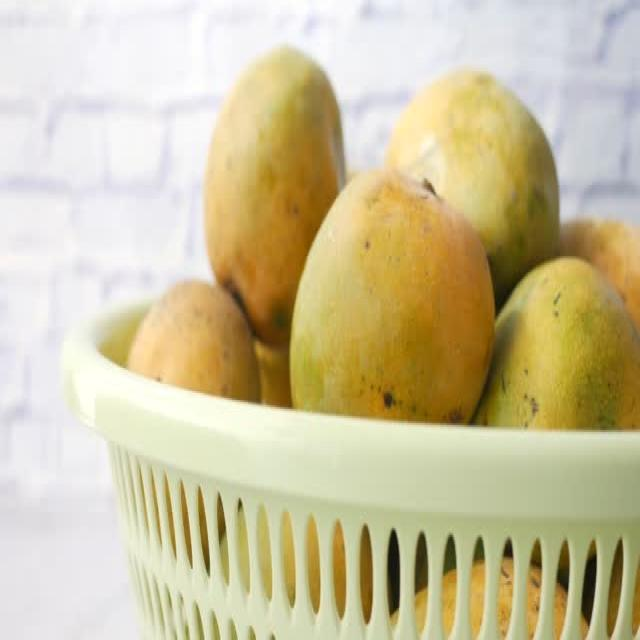mango: (290, 171, 494, 422), (204, 47, 345, 344), (386, 69, 559, 306), (475, 258, 640, 428), (128, 280, 260, 401)
